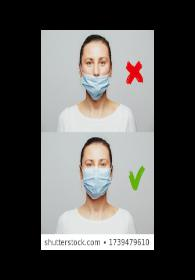mask_weared_incorrect: (83, 54, 109, 98)
with_mask: (83, 153, 111, 201)
